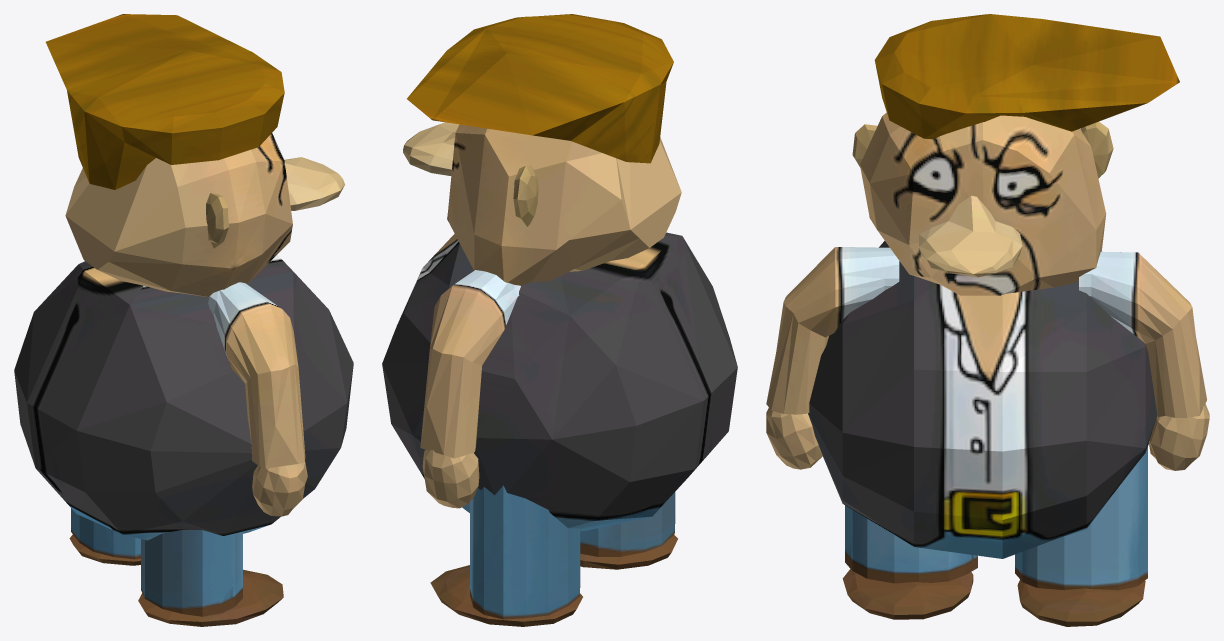
File: Ami.glb
3 renders of one model, left to right at view 1: azimuth 30°, elevation 25°; view 2: azimuth 150°, elevation 25°; view 3: azimuth 270°, elevation 25°, orthographic. The views are drawn at different scales.
Visible parts, largest first — view 1: Ami; view 2: Ami; view 3: Ami.
Part boxes in pixels (left/top/right/bottom): Ami: left=14, top=14, right=353, bottom=626; Ami: left=382, top=14, right=737, bottom=626; Ami: left=766, top=14, right=1209, bottom=626.
Size of the model in its own units: 151 by 245 by 181.
Materials: 1 (1 with a texture image).
